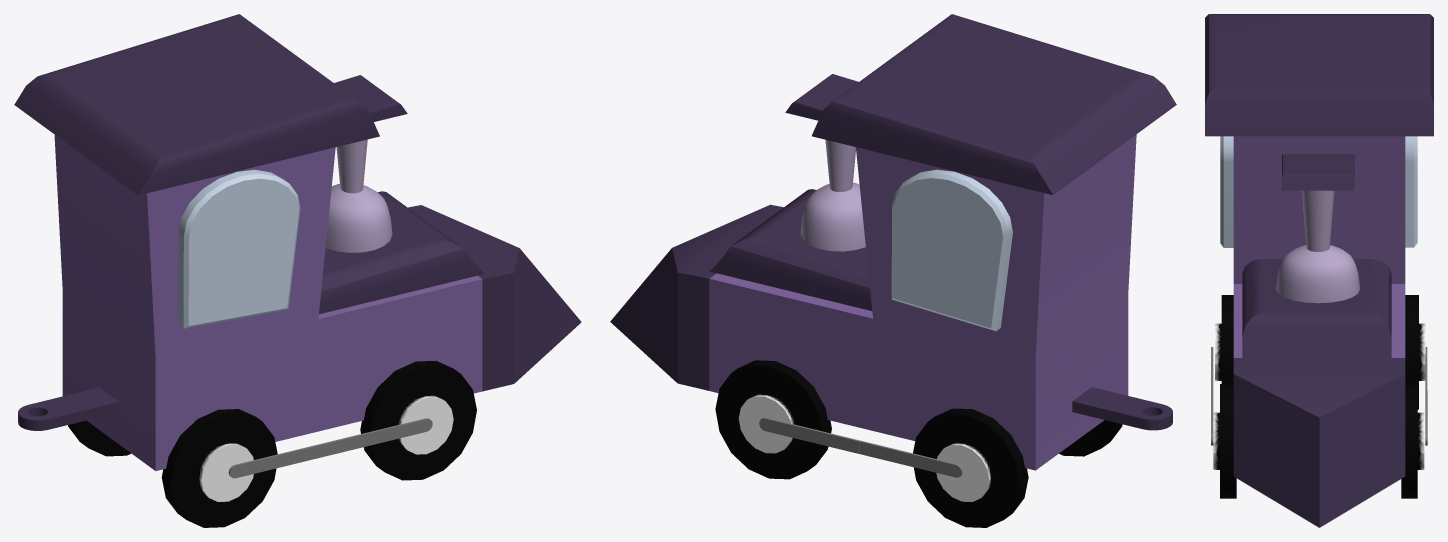
File: Engine.fbx
The picture shows the model from 3 angles, left to right: view 1: azimuth 30°, elevation 25°; view 2: azimuth 150°, elevation 25°; view 3: azimuth 270°, elevation 25°; orthographic projection. The views are drawn at different scales.
Parts seen in each view (by area): view 1: polySurface7, Engine_Roof1, Windows, Engine_Wheel2, Engine_Wheel3, Engine_Dome1, Engine_Wheel_Connectors, Engine_wheel1; view 2: polySurface7, Engine_Roof1, Windows, Engine_wheel1, Engine_Wheel4, Engine_Dome1, Engine_Wheel_Connectors, Engine_Wheel2; view 3: Engine_Roof1, polySurface7, Engine_Dome1, Windows, Engine_Wheel3, Engine_Wheel4, Engine_wheel1, Engine_Wheel2, Engine_Wheel_Connectors.
Boxes of the visible parts, x1,y1,x2,y2 form: polySurface7: (54, 135, 482, 470); Engine_Roof1: (14, 14, 581, 430); Windows: (178, 169, 300, 328); Engine_Wheel2: (161, 409, 277, 527); Engine_Wheel3: (360, 361, 476, 480); Engine_Dome1: (325, 139, 392, 252); Engine_Wheel_Connectors: (228, 418, 432, 478); Engine_wheel1: (68, 420, 130, 456); polySurface7: (709, 134, 1136, 470); Engine_Roof1: (610, 14, 1176, 430); Windows: (891, 169, 1012, 331); Engine_wheel1: (913, 408, 1028, 527); Engine_Wheel4: (715, 360, 831, 479); Engine_Dome1: (800, 139, 865, 251); Engine_Wheel_Connectors: (759, 417, 962, 477); Engine_Wheel2: (1059, 420, 1122, 456); Engine_Roof1: (1205, 14, 1433, 527); polySurface7: (1233, 136, 1405, 357); Engine_Dome1: (1276, 190, 1359, 303); Windows: (1220, 136, 1417, 247); Engine_Wheel3: (1213, 384, 1236, 498); Engine_Wheel4: (1401, 384, 1424, 498); Engine_wheel1: (1405, 295, 1425, 409); Engine_Wheel2: (1215, 295, 1233, 383); Engine_Wheel_Connectors: (1211, 347, 1427, 445).
Size of the model in its own units: 8.43 by 5.76 by 3.22.
